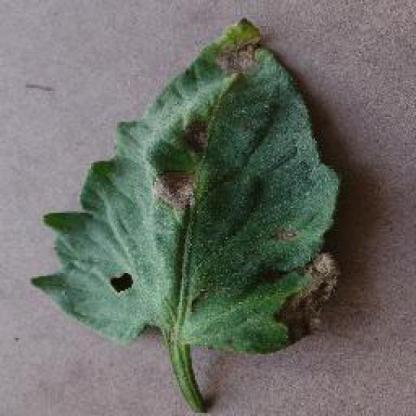Tomato_Blight: (34, 19, 339, 351)
